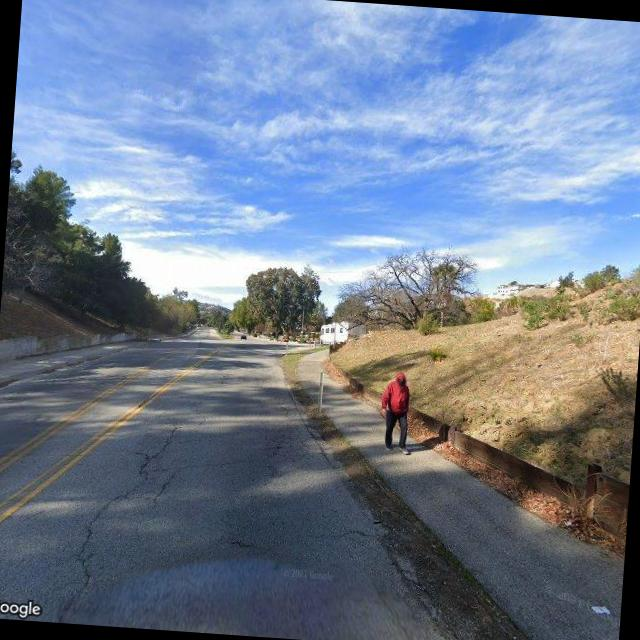pothole: (61, 407, 186, 608)
